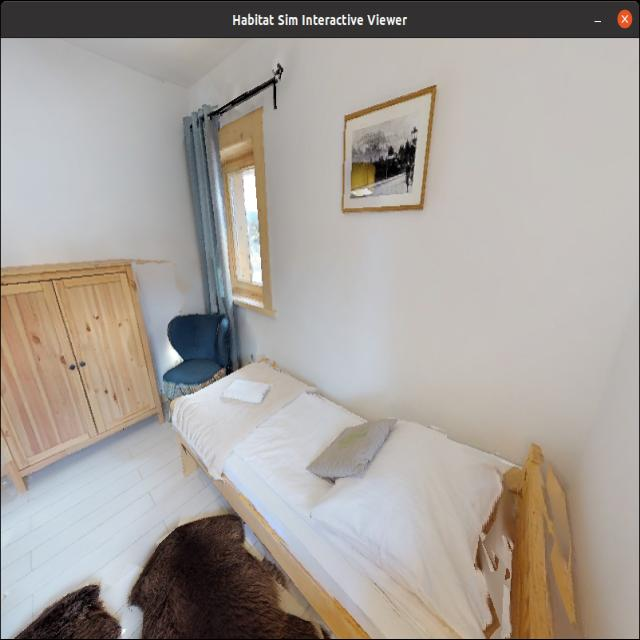bed: (158, 313, 640, 640)
sofa: (147, 281, 248, 435)
